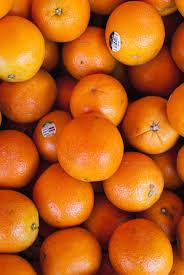orange: (58, 114, 133, 183), (0, 18, 55, 83), (101, 7, 163, 61)
